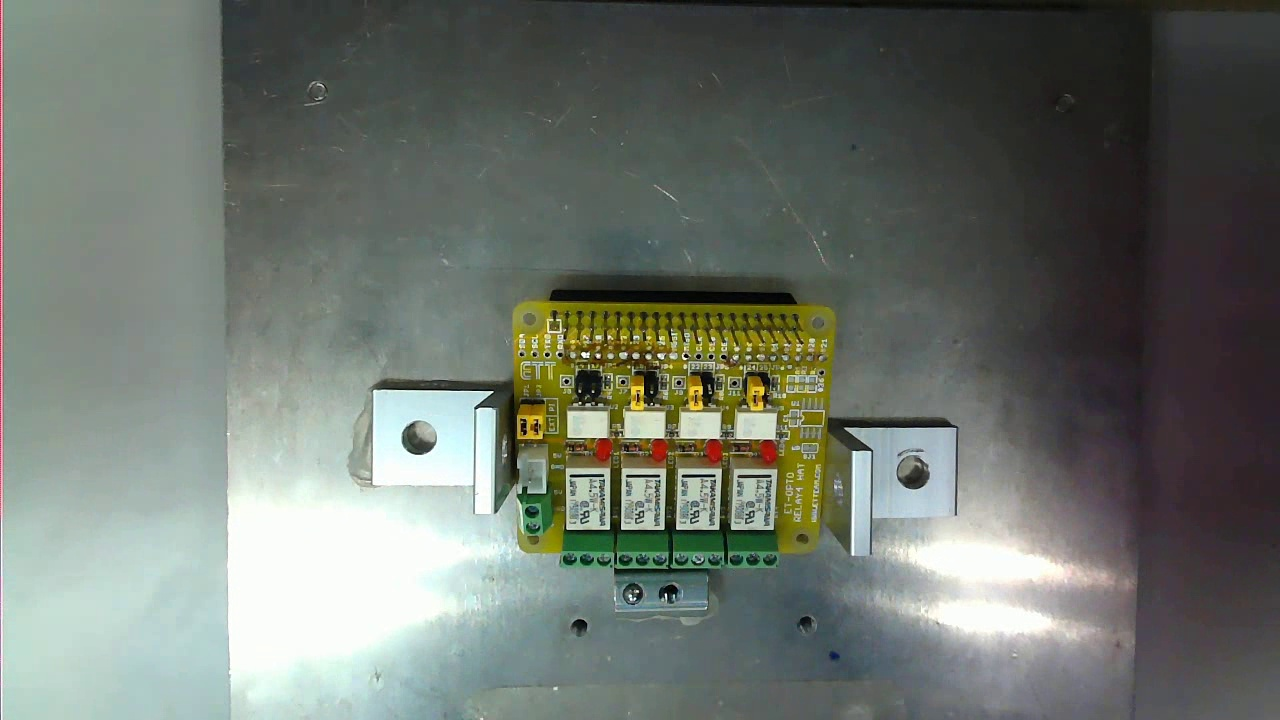can: (494, 295, 841, 575)
